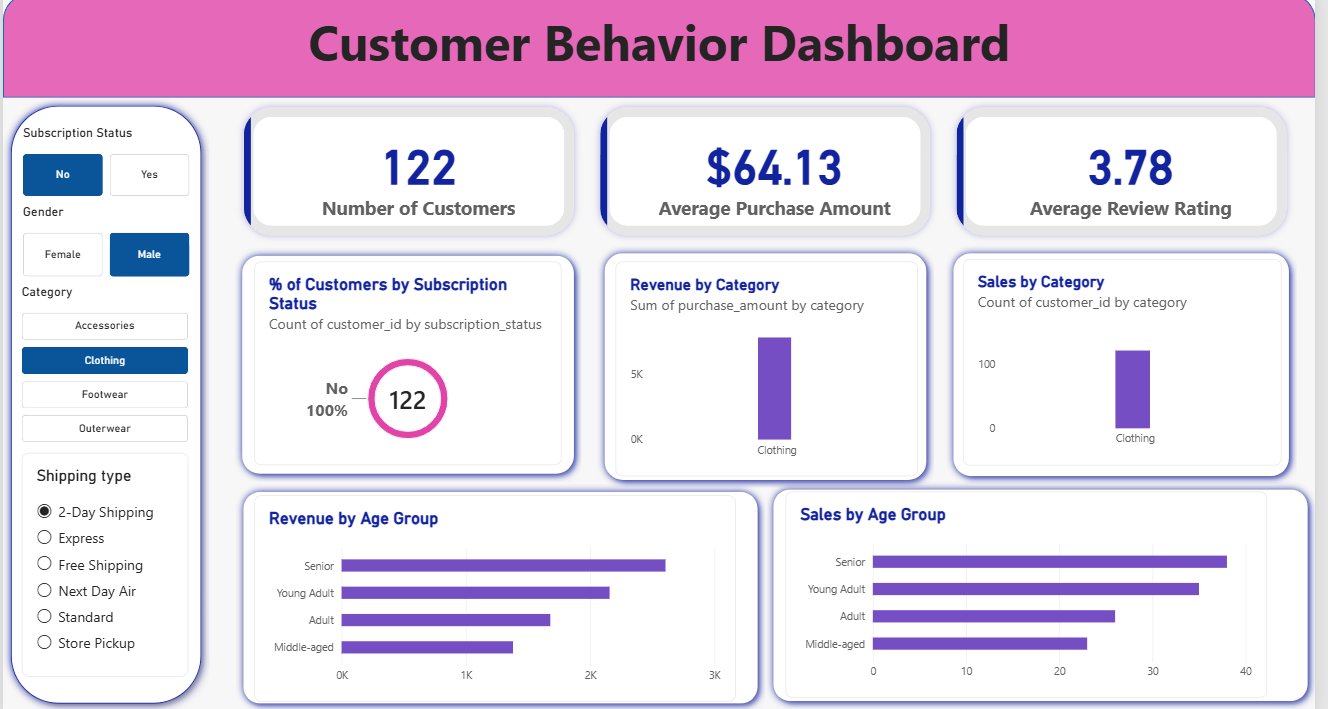

This screenshot's page, from the dashboard's own definition file:
{"tool":"powerbi","page":{"name":"Page 1","canvas":[1500,820],"ordinal":0},"visuals":[{"type":"shape","box":[265.7,560,605.7,260],"z":0},{"type":"shape","box":[264.3,290,397.1,267.1],"z":1000},{"type":"cardVisual","fields":{"Data":["public customer.Number of Customers","public customer.Average Purchase Amount","public customer.Average Review Rating"]},"box":[264.3,118.6,1214.3,168.6],"z":2000},{"type":"shape","box":[0,0,1500,118.6],"z":3000},{"type":"textbox","box":[0,41.2,1920.9,12.4],"z":4000},{"type":"shape","box":[678.6,287.1,385.7,277.1],"z":5000},{"type":"donutChart","title":"% of Customers by Subscription Status","fields":{"Category":["public customer.subscription_status"],"Y":["CountNonNull(public customer.customer_id)"]},"box":[287.1,305.7,351.4,232.9],"z":6000},{"type":"textbox","box":[0,15.7,1500,134.3],"z":7000},{"type":"shape","box":[1077.1,287.1,401.4,272.9],"z":8000},{"type":"clusteredColumnChart","title":"Revenue by Category","fields":{"Category":["public customer.category"],"Y":["Sum(public customer.purchase_amount)"]},"box":[700,305.7,345.7,245.7],"z":9000},{"type":"clusteredColumnChart","title":"Sales by Category","fields":{"Category":["public customer.category"],"Y":["CountNonNull(public customer.customer_id)"]},"box":[1097.1,302.9,364.3,235.7],"z":10000},{"type":"shape","box":[0,118.6,235.7,701.4],"z":11000},{"type":"advancedSlicerVisual","fields":{"Values":["public customer.subscription_status"]},"box":[22.9,150,190,81.4],"z":12000},{"type":"advancedSlicerVisual","fields":{"Values":["public customer.gender"]},"box":[22.9,240,190,82.9],"z":13000},{"type":"advancedSlicerVisual","fields":{"Values":["public customer.category"]},"box":[21.4,331.4,190,182.9],"z":14000},{"type":"listSlicer","fields":{"Values":["public customer.shipping_type"]},"box":[21.4,524.3,190,255.7],"z":15000},{"type":"clusteredBarChart","title":"Revenue by Age Group","fields":{"Category":["public customer.age_group"],"Y":["Sum(public customer.purchase_amount)"]},"box":[287.1,572.9,550,235.7],"z":16000},{"type":"shape","box":[871.4,557.1,628.6,260],"z":16001},{"type":"clusteredBarChart","title":"Sales by Age Group","fields":{"Category":["public customer.age_group"],"Y":["CountNonNull(public customer.customer_id)"]},"box":[894.3,568.6,550,235.7],"z":16002}]}

Visuals, with their boxes in screenshot pixels (x1, y1, x2, y2), scaled from the page's 1500x820 canvas onto the 1328x709 screenshot:
shape: {"x1": 235, "y1": 484, "x2": 771, "y2": 708}
shape: {"x1": 234, "y1": 251, "x2": 586, "y2": 482}
cardVisual - public customer.Number of Customers x public customer.Average Purchase Amount: {"x1": 234, "y1": 103, "x2": 1309, "y2": 248}
shape: {"x1": 0, "y1": 0, "x2": 1327, "y2": 103}
textbox: {"x1": 0, "y1": 36, "x2": 1327, "y2": 46}
shape: {"x1": 601, "y1": 248, "x2": 942, "y2": 488}
"% of Customers by Subscription Status" donutChart: {"x1": 254, "y1": 264, "x2": 565, "y2": 466}
textbox: {"x1": 0, "y1": 14, "x2": 1327, "y2": 130}
shape: {"x1": 954, "y1": 248, "x2": 1309, "y2": 484}
"Revenue by Category" clusteredColumnChart: {"x1": 620, "y1": 264, "x2": 926, "y2": 477}
"Sales by Category" clusteredColumnChart: {"x1": 971, "y1": 262, "x2": 1294, "y2": 466}
shape: {"x1": 0, "y1": 103, "x2": 209, "y2": 708}
advancedSlicerVisual - public customer.subscription_status: {"x1": 20, "y1": 130, "x2": 188, "y2": 200}
advancedSlicerVisual - public customer.gender: {"x1": 20, "y1": 208, "x2": 188, "y2": 279}
advancedSlicerVisual - public customer.category: {"x1": 19, "y1": 287, "x2": 187, "y2": 445}
listSlicer - public customer.shipping_type: {"x1": 19, "y1": 453, "x2": 187, "y2": 674}
"Revenue by Age Group" clusteredBarChart: {"x1": 254, "y1": 495, "x2": 741, "y2": 699}
shape: {"x1": 771, "y1": 482, "x2": 1327, "y2": 706}
"Sales by Age Group" clusteredBarChart: {"x1": 792, "y1": 492, "x2": 1279, "y2": 695}
